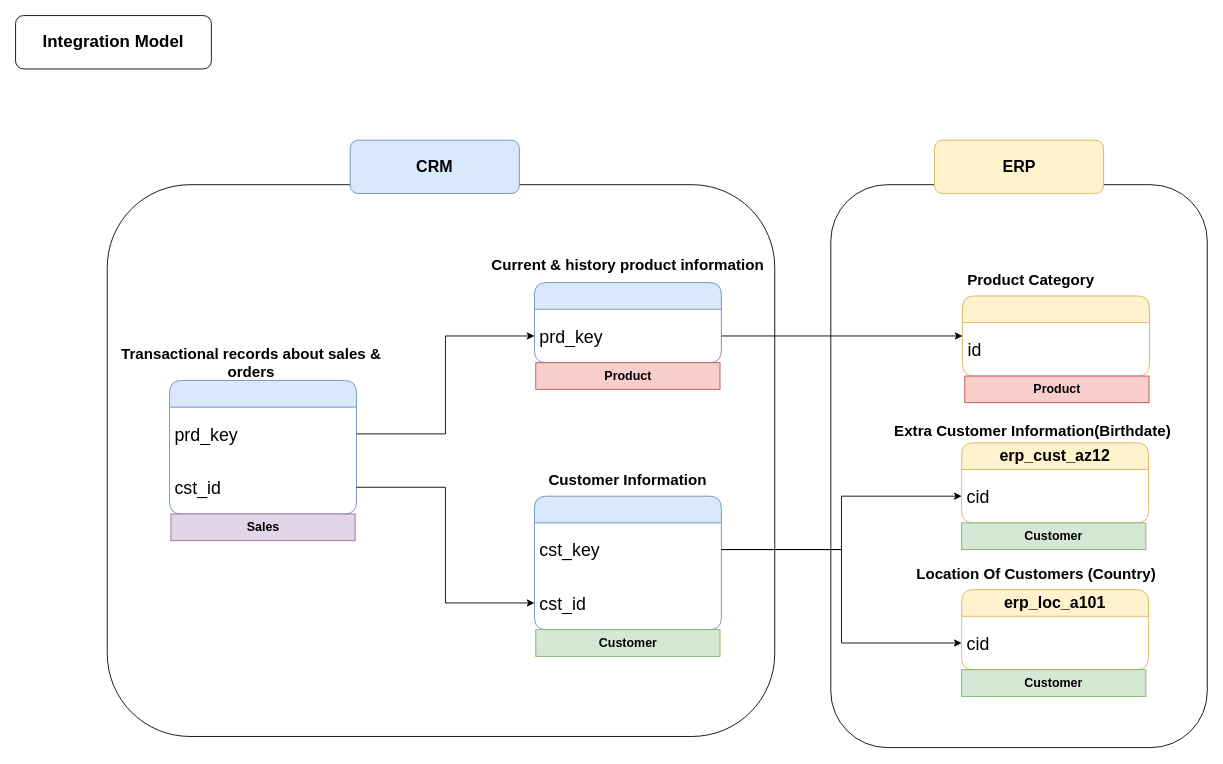
Image size: 1223x764. Some labels were removed from this diagram. The box of each missing label's shape, as (x1, y1, x2, y2) in pixels:
crm_cust_info: (534, 495, 721, 630)
crm_prd_info: (534, 282, 721, 363)
crm_sales_details: (169, 380, 356, 514)
erp_px_cat_g1v2: (962, 295, 1149, 376)
